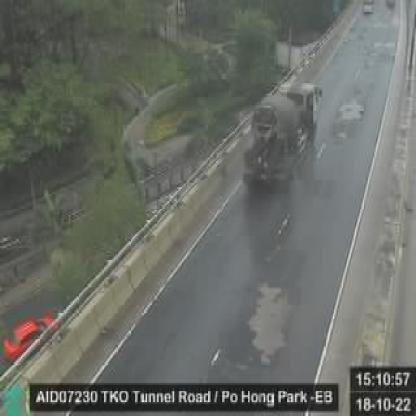Car: (362, 0, 378, 15)
Truck: (240, 82, 321, 194)
